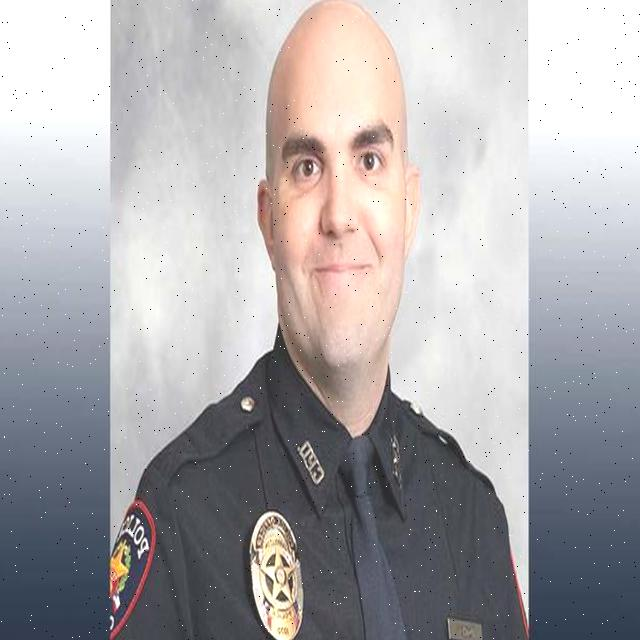police: (115, 14, 505, 640)
